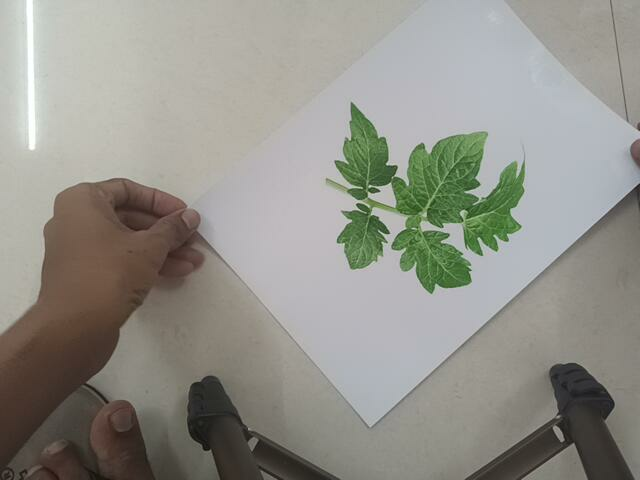Tomamto_Leaf_Healthy: (309, 96, 534, 296)
